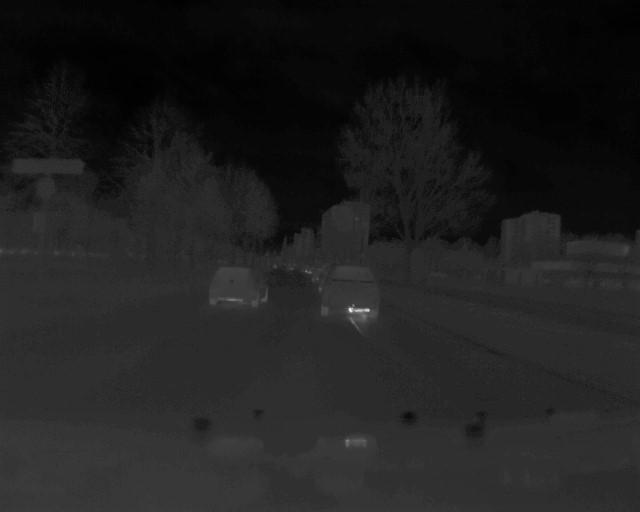car: (318, 262, 385, 324), (208, 260, 274, 316)
